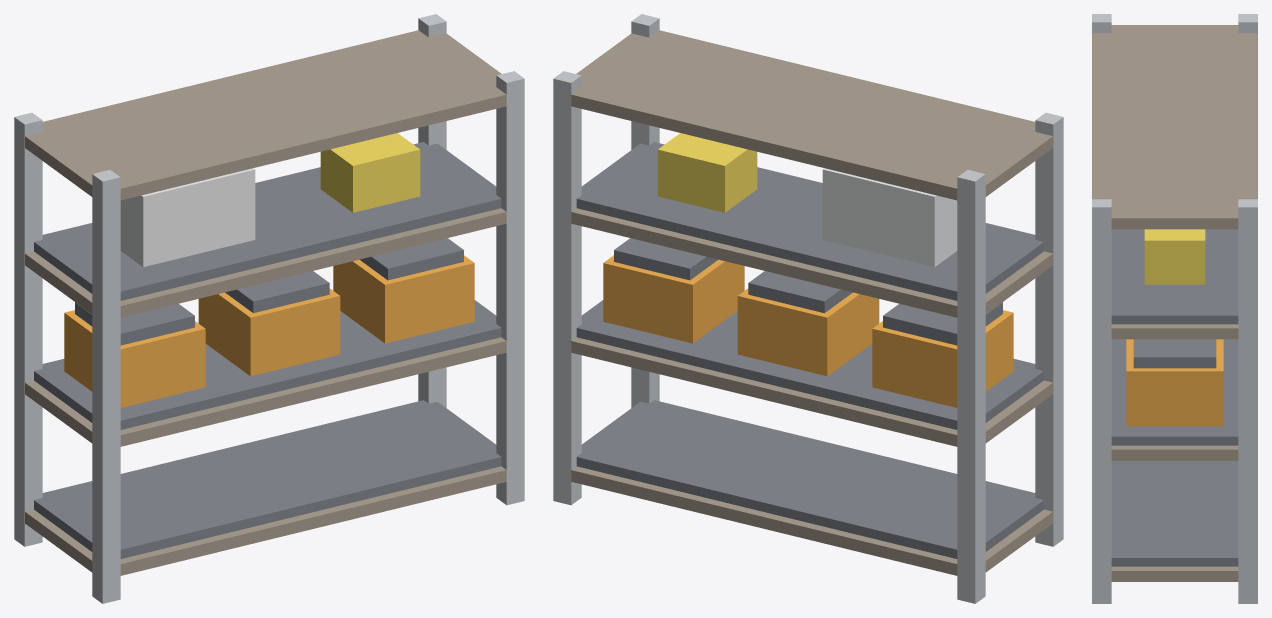
Rendered from robot-shelf-rack.glb.
The picture shows the model from 3 angles, left to right: view 1: azimuth 30°, elevation 25°; view 2: azimuth 150°, elevation 25°; view 3: azimuth 270°, elevation 25°; orthographic projection. The views are drawn at different scales.
Parts seen in each view (by area): view 1: robot-shelf-rack; view 2: robot-shelf-rack; view 3: robot-shelf-rack.
Part boxes in pixels (x1,y1,x2,y2): robot-shelf-rack: (14,14,524,603); robot-shelf-rack: (553,14,1063,603); robot-shelf-rack: (1092,14,1257,603).
Bounding box in the file's own units: 1.88 × 1.8 × 0.6823.
